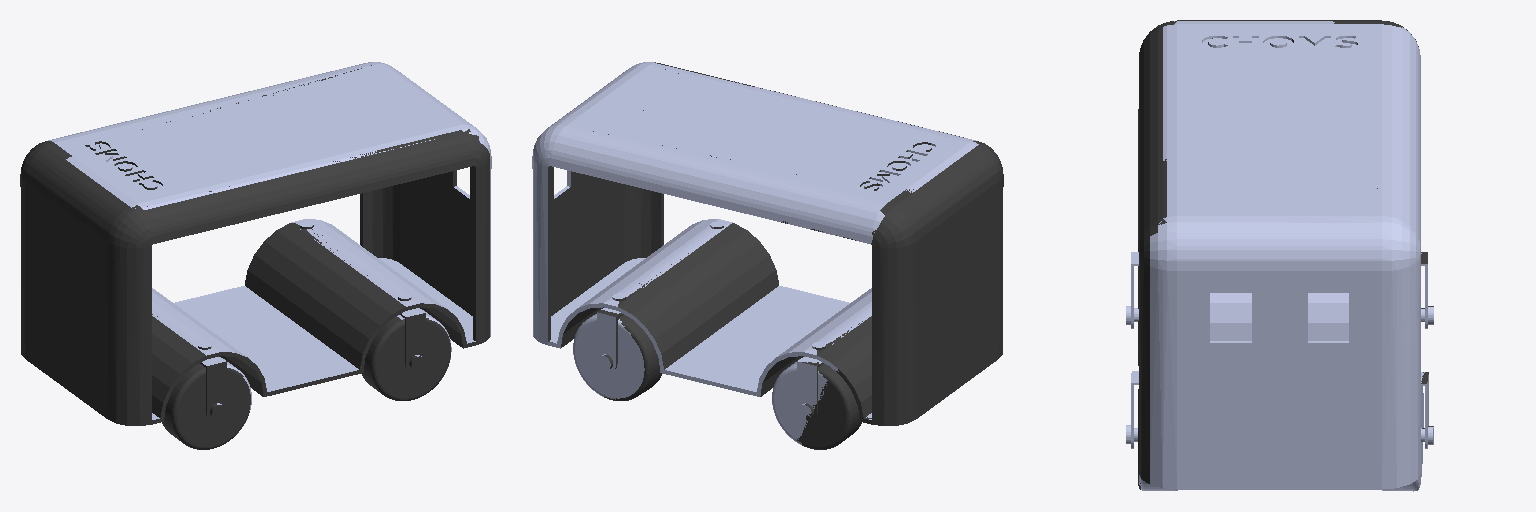
The robot description file, URDF, robot "tuktuk":
<?xml version="1.0" encoding="utf-8"?>
<!-- This URDF was automatically created by SolidWorks to URDF Exporter! Originally created by [author] ([email redacted]) 
     Commit Version: 1.6.0-4-g7f85cfe  Build Version: 1.6.7995.38578
     For more information, please see http://wiki.ros.org/sw_urdf_exporter -->
<robot
  name="tuktuk">
  
  <link name="base_link" />

  <joint name="base_link_to_chassis" type="fixed">
    <parent link="base_link"/>
    <child link="chassis"/>
  </joint>
  
  <link
    name="chassis">
    <inertial>
      <origin
        xyz="-0.00872584258156217 -8.73677904689174E-06 0.348841992462039"
        rpy="0 0 0" />
      <mass
        value="17.0500724051443" />
      <inertia
        ixx="1.05544103712001"
        ixy="-4.83008903298141E-05"
        ixz="0.00338970998222842"
        iyy="2.65078879681175"
        iyz="3.77265950026107E-05"
        izz="2.39161412207434" />
    </inertial>
    <visual>
      <origin
        xyz="0 0 0"
        rpy="0 0 0" />
      <geometry>
        <mesh
          filename="package://tuktuk/meshes/chassis.STL" />
      </geometry>
      <material
        name="">
        <color
          rgba="0.901960784313726 0.92156862745098 0.92156862745098 1" />
      </material>
    </visual>
    <collision>
      <origin
        xyz="0 0 0"
        rpy="0 0 0" />
      <geometry>
        <mesh
          filename="package://tuktuk/meshes/chassis.STL" />
      </geometry>
    </collision>
  </link>
  <link
    name="rightsteering">
    <inertial>
      <origin
        xyz="-0.000227047232786548 0.0457064740508882 0.0380993234789555"
        rpy="0 0 0" />
      <mass
        value="0.174755029943112" />
      <inertia
        ixx="0.000424029590737457"
        ixy="-8.25683025288843E-20"
        ixz="1.4633713357991E-06"
        iyy="0.000292188084095193"
        iyz="1.48564758924638E-19"
        izz="0.000178479459217897" />
    </inertial>
    <visual>
      <origin
        xyz="0 0 0"
        rpy="0 0 0" />
      <geometry>
        <mesh
          filename="package://tuktuk/meshes/rightsteering.STL" />
      </geometry>
      <material
        name="">
        <color
          rgba="0.792156862745098 0.819607843137255 0.933333333333333 1" />
      </material>
    </visual>
    <collision>
      <origin
        xyz="0 0 0"
        rpy="0 0 0" />
      <geometry>
        <mesh
          filename="package://tuktuk/meshes/rightsteering.STL" />
      </geometry>
    </collision>
  </link>
  <joint
    name="rightsteeringjoint"
    type="revolute">
    <origin
      xyz="0.25377 -0.254 0.1039"
      rpy="1.5708 0 3.1416" />
    <parent
      link="chassis" />
    <child
      link="rightsteering" />
    <axis
      xyz="0 1 0" />
    <limit
      lower="-0.5"
      upper="0.5"
      effort="30"
      velocity="100" />
  </joint>
  <link
    name="frontrightwheel">
    <inertial>
      <origin
        xyz="-0.000227047232786437 0 0.0380993234789554"
        rpy="0 0 0" />
      <mass
        value="2.4057031505395" />
      <inertia
        ixx="0.00738572832417625"
        ixy="1.46087584382073E-20"
        ixz="-3.03950167993716E-05"
        iyy="0.00738554718960942"
        iyz="-1.36650836825002E-18"
        izz="0.0124859378130737" />
    </inertial>
    <visual>
      <origin
        xyz="0 0 0"
        rpy="0 0 0" />
      <geometry>
        <mesh
          filename="package://tuktuk/meshes/frontrightwheel.STL" />
      </geometry>
      <material
        name="">
        <color
          rgba="0.294117647058824 0.294117647058824 0.294117647058824 1" />
      </material>
    </visual>
    <collision>
      <origin
        xyz="0 0 0"
        rpy="0 0 0" />
      <geometry>
        <mesh
          filename="package://tuktuk/meshes/frontrightwheel.STL" />
      </geometry>
    </collision>
  </link>
  <joint
    name="frontrightwheeljoint"
    type="continuous">
    <origin
      xyz="0 0 0"
      rpy="0 0 0" />
    <parent
      link="rightsteering" />
    <child
      link="frontrightwheel" />
    <axis
      xyz="0.00595924495502477 0 -0.999982243542137" />
  </joint>
  <link
    name="leftsteering">
    <inertial>
      <origin
        xyz="0.00182682919407662 0.0457064740508881 -0.0380561781462051"
        rpy="0 0 0" />
      <mass
        value="0.174755029943111" />
      <inertia
        ixx="0.000423473742577242"
        ixy="-1.10016906262855E-19"
        ixz="1.17609981436198E-05"
        iyy="0.000292188084095192"
        iyz="-9.94671909825137E-20"
        izz="0.000179035307378108" />
    </inertial>
    <visual>
      <origin
        xyz="0 0 0"
        rpy="0 0 0" />
      <geometry>
        <mesh
          filename="package://tuktuk/meshes/leftsteering.STL" />
      </geometry>
      <material
        name="">
        <color
          rgba="0.792156862745098 0.819607843137255 0.933333333333333 1" />
      </material>
    </visual>
    <collision>
      <origin
        xyz="0 0 0"
        rpy="0 0 0" />
      <geometry>
        <mesh
          filename="package://tuktuk/meshes/leftsteering.STL" />
      </geometry>
    </collision>
  </link>
  <joint
    name="leftsteeringjoint"
    type="revolute">
    <origin
      xyz="0.25583 0.25396 0.1039"
      rpy="1.5708 0 3.1416" />
    <parent
      link="chassis" />
    <child
      link="leftsteering" />
    <axis
      xyz="0 1 0" />
    <limit
      lower="-0.5"
      upper="0.5"
      effort="30"
      velocity="100" />
  </joint>
  <link
    name="frontleftwheel">
    <inertial>
      <origin
        xyz="0.00182682919407628 5.55111512312578E-17 -0.0380561781462048"
        rpy="0 0 0" />
      <mass
        value="2.4057031505395" />
      <inertia
        ixx="0.00739727359211625"
        ixy="1.02094696996403E-19"
        ixz="-0.0002442823140016"
        iyy="0.00738554718960941"
        iyz="1.03781340957124E-18"
        izz="0.0124743925451336" />
    </inertial>
    <visual>
      <origin
        xyz="0 0 0"
        rpy="0 0 0" />
      <geometry>
        <mesh
          filename="package://tuktuk/meshes/frontleftwheel.STL" />
      </geometry>
      <material
        name="">
        <color
          rgba="0.294117647058824 0.294117647058824 0.294117647058824 1" />
      </material>
    </visual>
    <collision>
      <origin
        xyz="0 0 0"
        rpy="0 0 0" />
      <geometry>
        <mesh
          filename="package://tuktuk/meshes/frontleftwheel.STL" />
      </geometry>
    </collision>
  </link>
  <joint
    name="frontleftwheeljoint"
    type="continuous">
    <origin
      xyz="0 0 0"
      rpy="0 0 0" />
    <parent
      link="leftsteering" />
    <child
      link="frontleftwheel" />
    <axis
      xyz="0.0562912463434586 0 -0.998414390714146" />
  </joint>
  <link
    name="rearrightwheel">
    <inertial>
      <origin
        xyz="0 5.55111512312578E-17 0.0381"
        rpy="0 0 0" />
      <mass
        value="2.4057031505395" />
      <inertia
        ixx="0.00738554718960941"
        ixy="-1.37830127619506E-19"
        ixz="-3.22719552903884E-21"
        iyy="0.00738554718960941"
        iyz="2.15146368602591E-21"
        izz="0.0124861189476405" />
    </inertial>
    <visual>
      <origin
        xyz="0 0 0"
        rpy="0 0 0" />
      <geometry>
        <mesh
          filename="package://tuktuk/meshes/rearrightwheel.STL" />
      </geometry>
      <material
        name="">
        <color
          rgba="0.294117647058824 0.294117647058824 0.294117647058824 1" />
      </material>
    </visual>
    <collision>
      <origin
        xyz="0 0 0"
        rpy="0 0 0" />
      <geometry>
        <mesh
          filename="package://tuktuk/meshes/rearrightwheel.STL" />
      </geometry>
    </collision>
  </link>
  <joint
    name="rearrightwheeljoint"
    type="continuous">
    <origin
      xyz="-0.254 -0.254 0.1039"
      rpy="1.5708 0 3.1416" />
    <parent
      link="chassis" />
    <child
      link="rearrightwheel" />
    <axis
      xyz="0 0 -1" />
  </joint>
  <link
    name="rearleftwheel">
    <inertial>
      <origin
        xyz="0 -5.55111512312578E-17 -0.0381"
        rpy="0 0 0" />
      <mass
        value="2.4057031505395" />
      <inertia
        ixx="0.00738554718960941"
        ixy="-7.19140170467313E-19"
        ixz="1.3436047786286E-19"
        iyy="0.00738554718960941"
        iyz="7.44614971272297E-22"
        izz="0.0124861189476405" />
    </inertial>
    <visual>
      <origin
        xyz="0 0 0"
        rpy="0 0 0" />
      <geometry>
        <mesh
          filename="package://tuktuk/meshes/rearleftwheel.STL" />
      </geometry>
      <material
        name="">
        <color
          rgba="0.294117647058824 0.294117647058824 0.294117647058824 1" />
      </material>
    </visual>
    <collision>
      <origin
        xyz="0 0 0"
        rpy="0 0 0" />
      <geometry>
        <mesh
          filename="package://tuktuk/meshes/rearleftwheel.STL" />
      </geometry>
    </collision>
  </link>
  <joint
    name="rearleftwheeljoint"
    type="continuous">
    <origin
      xyz="-0.254 0.254 0.1039"
      rpy="1.5707963267949 0 3.14159265358979" />
    <parent
      link="chassis" />
    <child
      link="rearleftwheel" />
    <axis
      xyz="0 0 -1" />
  </joint>

  <transmission name="leftsteertrans">
    <type>transmission_interface/SimpleTransmission</type>
    <joint name="leftsteeringjoint">
      <hardwareInterface>EffortJointInterface</hardwareInterface>
    </joint>
    <actuator name="leftsteermotor">
      <hardwareInterface>EffortJointInterface</hardwareInterface>
    </actuator>
  </transmission>

  <transmission name="rightsteertrans">
    <type>transmission_interface/SimpleTransmission</type>
    <joint name="rightsteeringjoint">
      <hardwareInterface>EffortJointInterface</hardwareInterface>
    </joint>
    <actuator name="rightsteermotor">
      <hardwareInterface>EffortJointInterface</hardwareInterface>
    </actuator>
  </transmission>

  <transmission name="rearrighttrans">
    <type>transmission_interface/SimpleTransmission</type>
    <joint name="rearrightwheeljoint">
      <hardwareInterface>VelocityJointInterface</hardwareInterface>
    </joint>
    <actuator name="rearrightmotor">
      <hardwareInterface>VelocityJointInterface</hardwareInterface>
    </actuator>
  </transmission>

  <transmission name="rearlefttrans">
    <type>transmission_interface/SimpleTransmission</type>
    <joint name="rearleftwheeljoint">
      <hardwareInterface>VelocityJointInterface</hardwareInterface>
    </joint>
    <actuator name="rearleftmotor">
      <hardwareInterface>VelocityJointInterface</hardwareInterface>
    </actuator>
  </transmission>
</robot>

--- Render facts (derived) ---
3 views of the same robot in one strip: view 1: azimuth 30°, elevation 25°; view 2: azimuth 150°, elevation 25°; view 3: azimuth 270°, elevation 25° (orthographic).
Robot: tuktuk — 8 links, 7 joints (2 revolute, 4 continuous, 1 fixed); root link base_link; default pose: all joints at 0.
Links seen in each view (by area): view 1: frontrightwheel, leftsteering, rearleftwheel; view 2: leftsteering, frontrightwheel, rearrightwheel, rearleftwheel; view 3: leftsteering, rearleftwheel, frontrightwheel.
Link boxes in pixels (bbox=[...]): frontrightwheel: bbox=[20, 73, 475, 449]; leftsteering: bbox=[48, 62, 491, 433]; rearleftwheel: bbox=[34, 65, 489, 394]; leftsteering: bbox=[532, 62, 978, 444]; frontrightwheel: bbox=[548, 88, 1003, 446]; rearrightwheel: bbox=[604, 73, 930, 449]; rearleftwheel: bbox=[548, 62, 913, 447]; leftsteering: bbox=[1126, 21, 1433, 491]; rearleftwheel: bbox=[1138, 21, 1433, 489]; frontrightwheel: bbox=[1138, 20, 1389, 485].
Bounding box of the posed robot: 0.9652 × 0.5544 × 0.6073 m (x, y, z).
4 mesh visuals loaded from 7 distinct referenced files (4 binary STL); not drawn: 3 (reference not matched to a file when rendering).